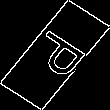P_SE: (20, 25, 90, 85)
